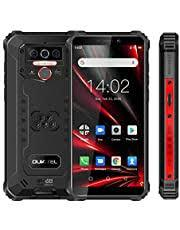Smartphone: (70, 33, 149, 202), (11, 29, 74, 202), (158, 25, 180, 210)
